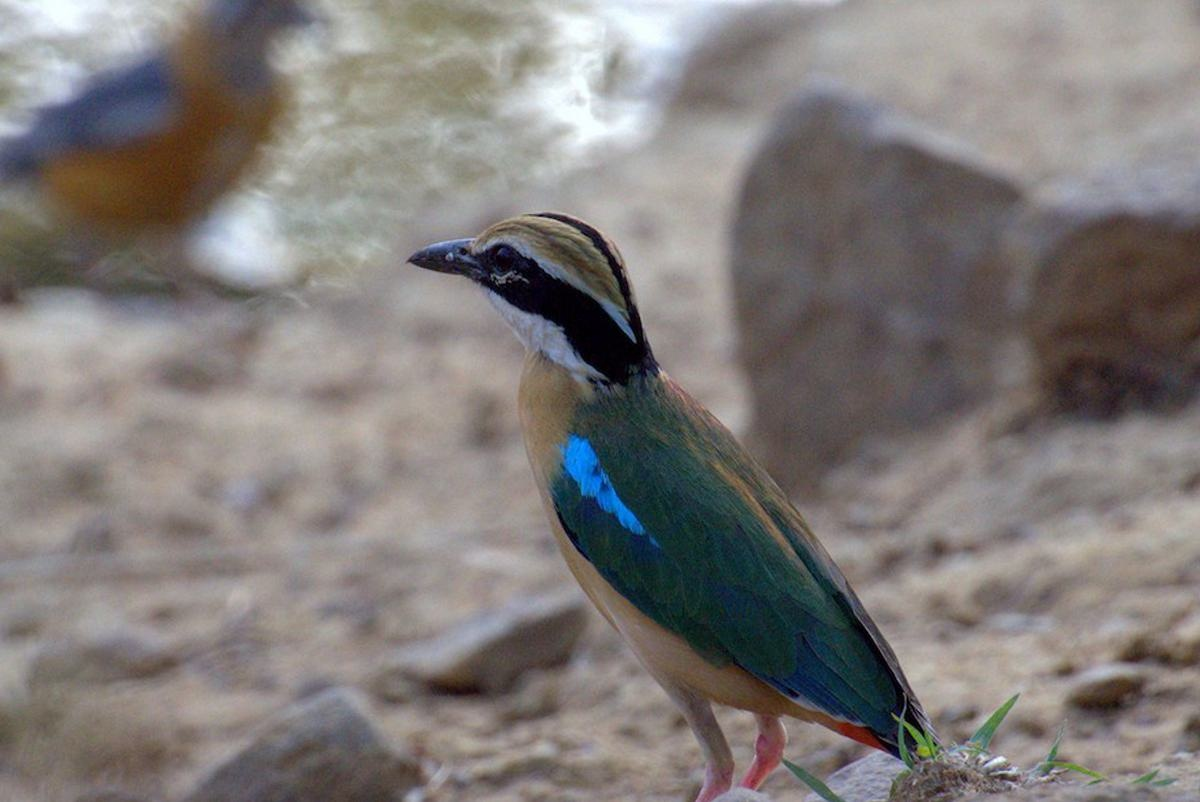pitta: (419, 196, 943, 769)
